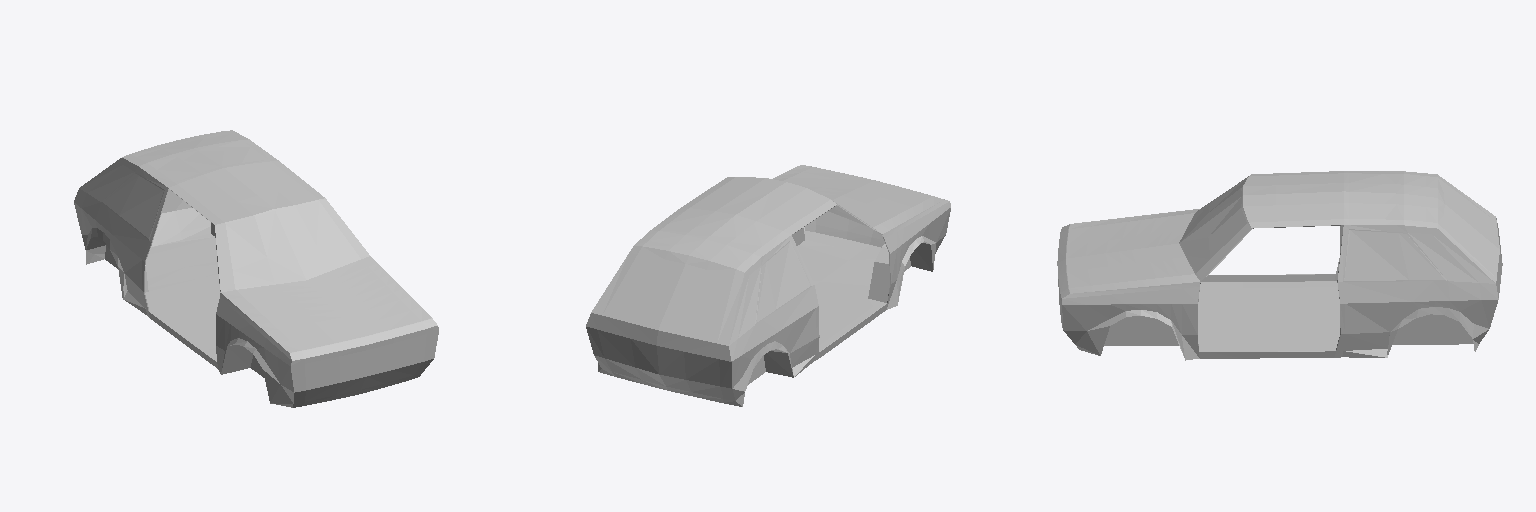
Rendered from cricket_body.obj.
3 renders of one model, left to right at view 1: azimuth 30°, elevation 25°; view 2: azimuth 150°, elevation 25°; view 3: azimuth 270°, elevation 25°, orthographic.
Visible parts, largest first — view 1: Body; view 2: Body; view 3: Body.
Boxes of the visible parts, x1,y1,x2,y2 form: Body: [74, 130, 438, 407]; Body: [586, 165, 950, 406]; Body: [1057, 171, 1502, 360].
Size of the model in its own units: 1.56 by 1.16 by 3.62.